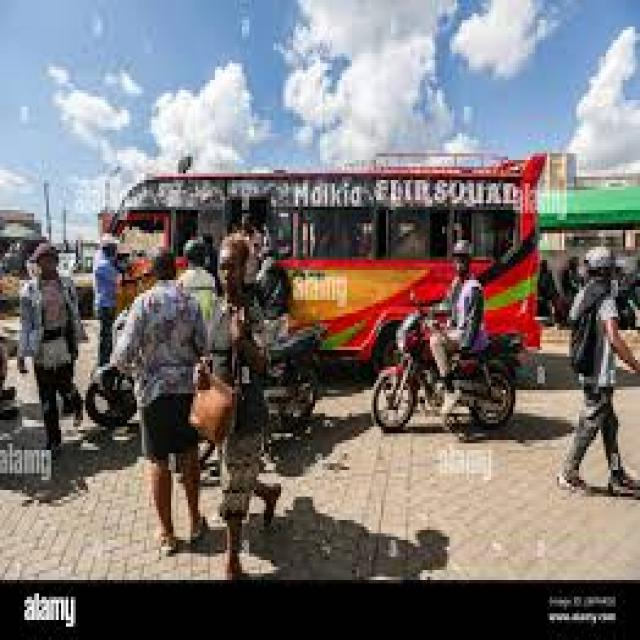bodaboda: (373, 333, 520, 448), (281, 331, 315, 452), (80, 364, 122, 442)
bus: (316, 148, 567, 241)
